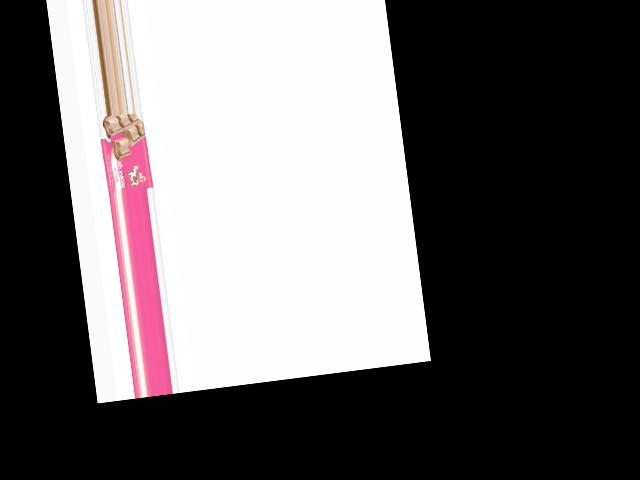chocolate: (97, 111, 152, 195)
